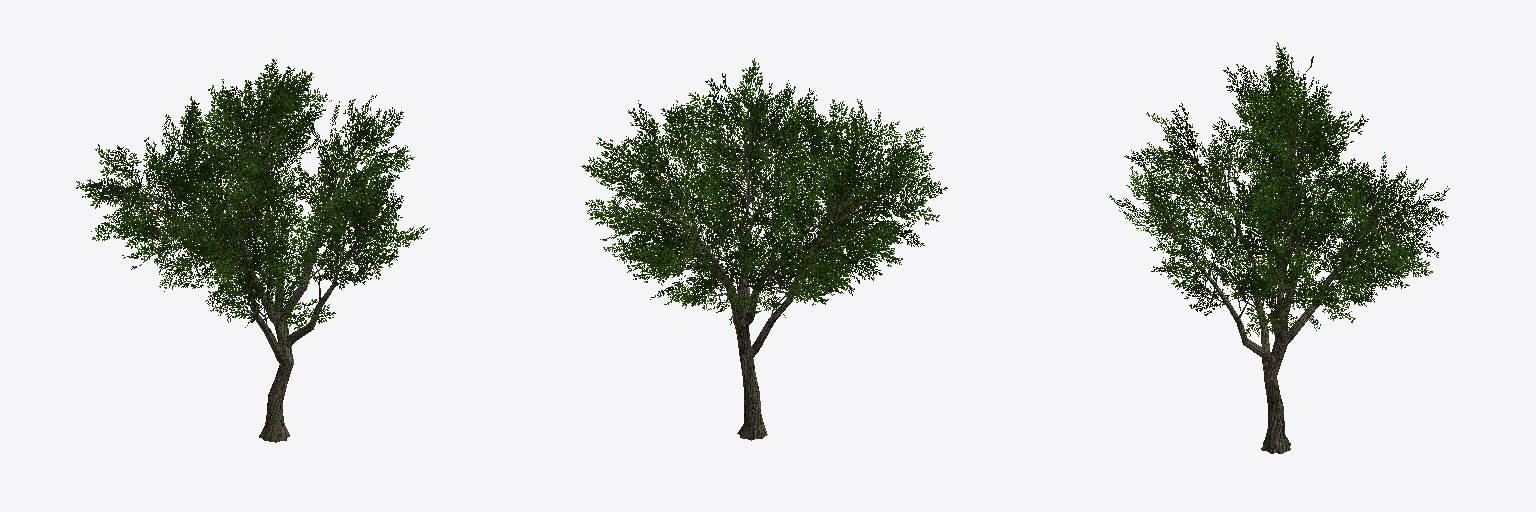
3 renders of one model, left to right at view 1: azimuth 30°, elevation 25°; view 2: azimuth 150°, elevation 25°; view 3: azimuth 270°, elevation 25°, orthographic.
Visible parts, largest first — view 1: polySurface1 polySurface40, polySurface1 polySurface37, polySurface1 polySurface38; view 2: polySurface1 polySurface40, polySurface1 polySurface38, polySurface1 polySurface36; view 3: polySurface1 polySurface40, polySurface1 polySurface37.
Boxes of the visible parts, box(x1,y1,x2,y2) form: polySurface1 polySurface40: box(259, 174, 344, 442); polySurface1 polySurface37: box(284, 249, 354, 347); polySurface1 polySurface38: box(241, 240, 287, 366); polySurface1 polySurface40: box(668, 183, 767, 440); polySurface1 polySurface38: box(748, 200, 842, 358); polySurface1 polySurface36: box(664, 211, 743, 328); polySurface1 polySurface40: box(1261, 247, 1292, 453); polySurface1 polySurface37: box(1186, 254, 1275, 365).
Size of the model in its own units: 681 by 690 by 591.
2 materials, 2 textured.